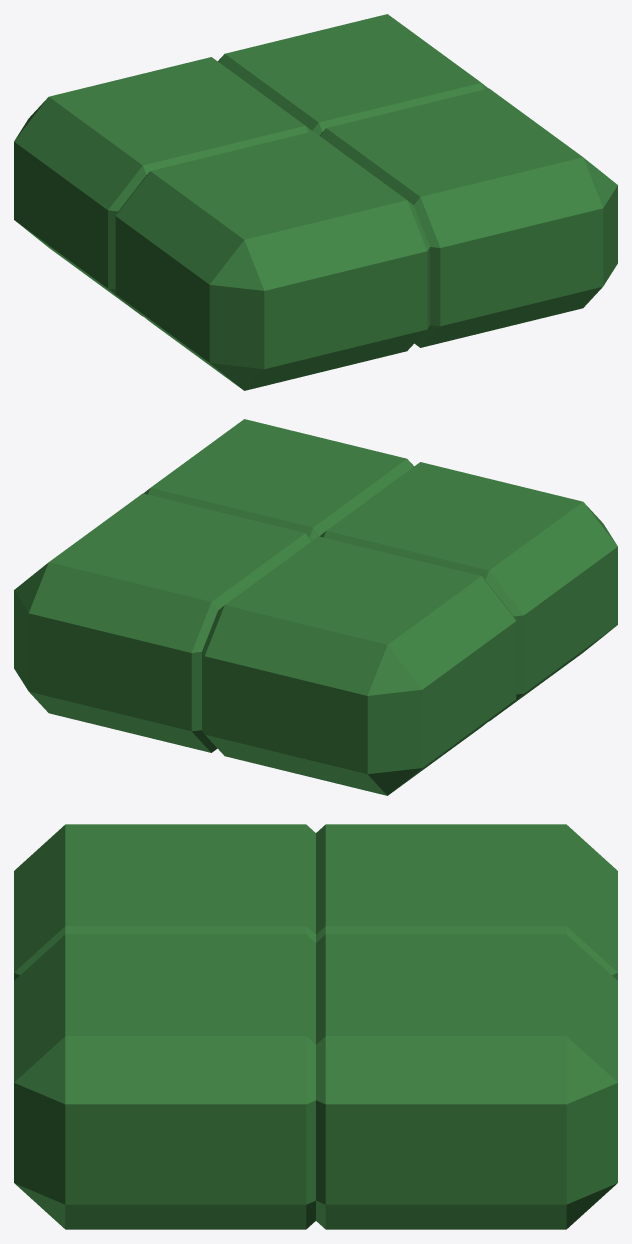
File: m_kub_dung_floor_four.fbx
3 views of the same model, one above another, from view 1: azimuth 30°, elevation 25°; view 2: azimuth 150°, elevation 25°; view 3: azimuth 270°, elevation 25° (orthographic). The views are drawn at different scales.
Parts seen in each view (by area): view 1: m_kub_dung_floor_four; view 2: m_kub_dung_floor_four; view 3: m_kub_dung_floor_four.
Boxes of the visible parts, <box> form: m_kub_dung_floor_four: <box>14,14,617,390</box>; m_kub_dung_floor_four: <box>14,419,617,795</box>; m_kub_dung_floor_four: <box>14,824,617,1229</box>.
Bounding box in the file's own units: 2.32 × 0.8205 × 2.32.
